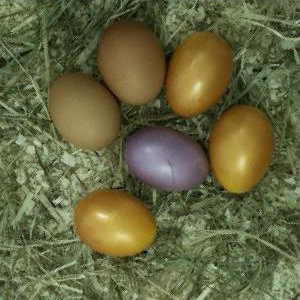egg: (209, 106, 275, 196), (97, 21, 166, 106), (166, 31, 233, 118), (123, 127, 209, 194), (74, 189, 158, 257), (48, 74, 121, 149)
